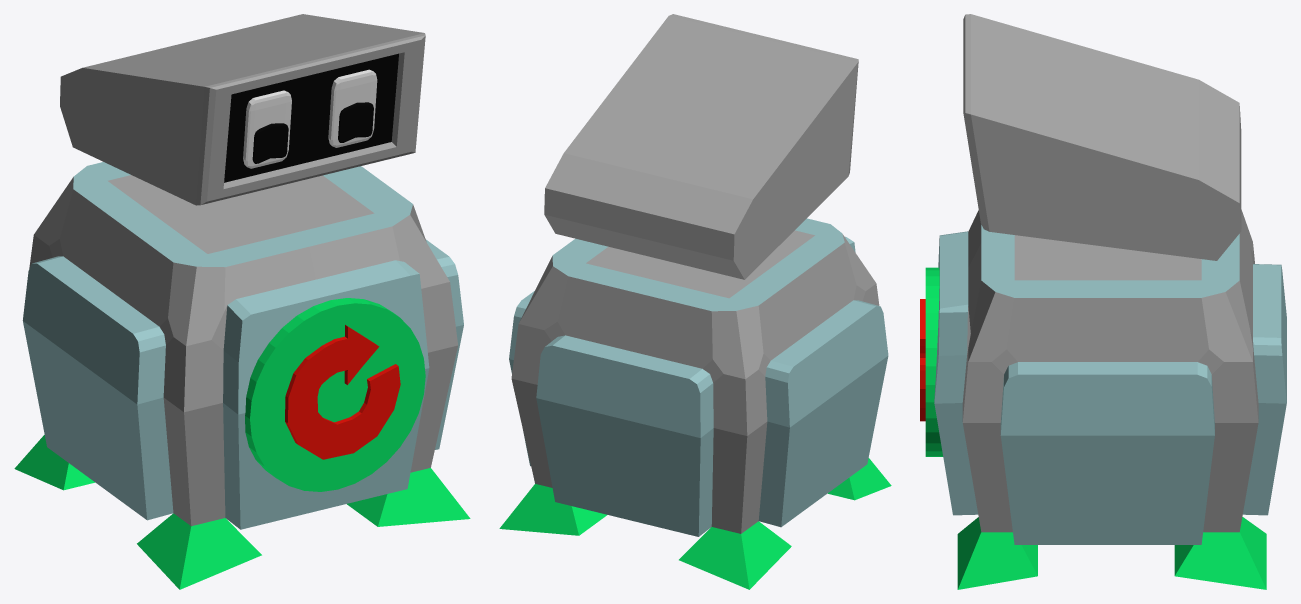
The model's file is bot3.fbx.
The picture shows the model from 3 angles, left to right: view 1: azimuth 30°, elevation 25°; view 2: azimuth 150°, elevation 25°; view 3: azimuth 270°, elevation 25°; orthographic projection. The views are drawn at different scales.
Parts seen in each view (by area): view 1: Cube.014; view 2: Cube.014; view 3: Cube.014.
Part boxes in pixels (<box>): Cube.014: <box>14,14,470,589</box>; Cube.014: <box>499,14,891,589</box>; Cube.014: <box>920,14,1286,589</box>.
Bounding box in the file's own units: 339 × 486 × 352.
